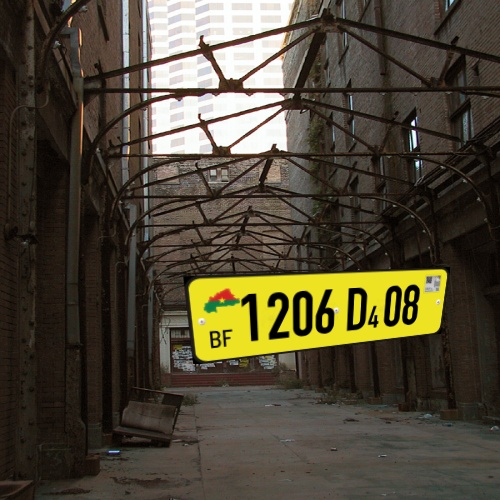plate: (175, 261, 460, 361)
